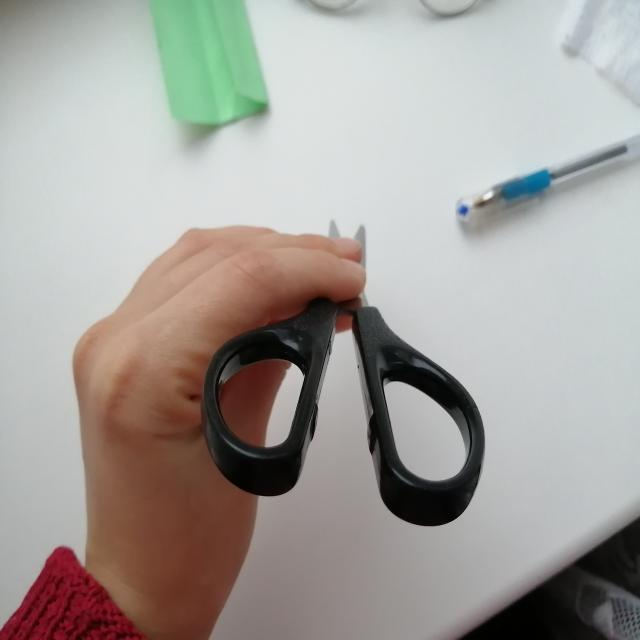tesoura: (164, 196, 513, 559)
